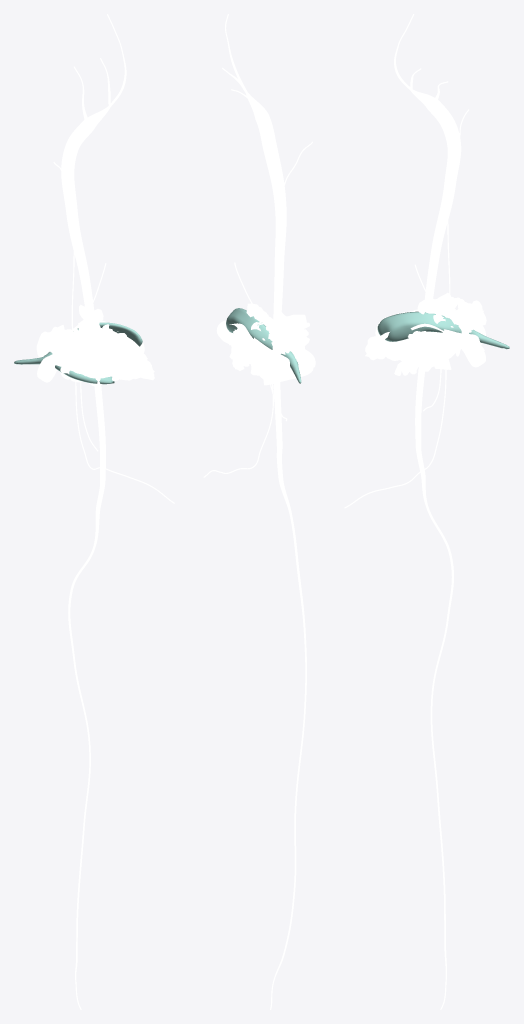
The model's file is ieobom-female-nervous-v4-central-major.glb.
3 renders of one model, left to right at view 1: azimuth 90°, elevation 25°; view 2: azimuth 210°, elevation 25°; view 3: azimuth 270°, elevation 25°, orthographic. The views are drawn at different scales.
Parts seen in each view (by area): view 1: FEMALE_SOURCE__Sciatic nerve.l.001, FEMALE_SOURCE__Tibial nerve.l.001, FEMALE_SOURCE__Corpus callosum.001, FEMALE_SOURCE__Lateral ventricle.l.001, FEMALE_SOURCE__Tentorium cerebelli.l.001, FEMALE_SOURCE__Deep fibular nerve.l.001, FEMALE_SOURCE__Superior temporal sulcus.l.001, FEMALE_SOURCE__Middle temporal gyrus.l.001, FEMALE_SOURCE__Orbital gyri.l.001; view 2: FEMALE_SOURCE__Sciatic nerve.l.001, FEMALE_SOURCE__Corpus callosum.001, FEMALE_SOURCE__Tibial nerve.l.001, FEMALE_SOURCE__Lateral ventricle.l.001, FEMALE_SOURCE__Deep fibular nerve.l.001, FEMALE_SOURCE__Tentorium cerebelli.l.001, FEMALE_SOURCE__Middle temporal gyrus.l.001; view 3: FEMALE_SOURCE__Sciatic nerve.l.001, FEMALE_SOURCE__Lateral ventricle.l.001, FEMALE_SOURCE__Tibial nerve.l.001, FEMALE_SOURCE__Corpus callosum.001, FEMALE_SOURCE__Deep fibular nerve.l.001, FEMALE_SOURCE__Orbital gyri.l.001.
Boxes of the visible parts, left/top/right/bottom form: FEMALE_SOURCE__Sciatic nerve.l.001: left=61, top=14, right=126, bottom=505; FEMALE_SOURCE__Tibial nerve.l.001: left=68, top=504, right=100, bottom=1009; FEMALE_SOURCE__Corpus callosum.001: left=37, top=337, right=144, bottom=382; FEMALE_SOURCE__Lateral ventricle.l.001: left=14, top=322, right=142, bottom=384; FEMALE_SOURCE__Tentorium cerebelli.l.001: left=40, top=320, right=147, bottom=374; FEMALE_SOURCE__Deep fibular nerve.l.001: left=53, top=162, right=174, bottom=503; FEMALE_SOURCE__Superior temporal sulcus.l.001: left=39, top=325, right=154, bottom=372; FEMALE_SOURCE__Middle temporal gyrus.l.001: left=36, top=331, right=154, bottom=380; FEMALE_SOURCE__Orbital gyri.l.001: left=105, top=337, right=130, bottom=368; FEMALE_SOURCE__Sciatic nerve.l.001: left=222, top=14, right=286, bottom=478; FEMALE_SOURCE__Corpus callosum.001: left=216, top=316, right=315, bottom=385; FEMALE_SOURCE__Tibial nerve.l.001: left=270, top=478, right=306, bottom=1009; FEMALE_SOURCE__Lateral ventricle.l.001: left=226, top=308, right=301, bottom=383; FEMALE_SOURCE__Deep fibular nerve.l.001: left=203, top=141, right=312, bottom=477; FEMALE_SOURCE__Tentorium cerebelli.l.001: left=229, top=323, right=285, bottom=372; FEMALE_SOURCE__Middle temporal gyrus.l.001: left=269, top=328, right=308, bottom=354; FEMALE_SOURCE__Sciatic nerve.l.001: left=394, top=14, right=461, bottom=471; FEMALE_SOURCE__Lateral ventricle.l.001: left=377, top=311, right=509, bottom=349; FEMALE_SOURCE__Tibial nerve.l.001: left=420, top=470, right=453, bottom=1009; FEMALE_SOURCE__Corpus callosum.001: left=375, top=311, right=485, bottom=367; FEMALE_SOURCE__Deep fibular nerve.l.001: left=344, top=109, right=468, bottom=508; FEMALE_SOURCE__Orbital gyri.l.001: left=408, top=331, right=455, bottom=349.
Size of the model in its own units: 0.0799 by 0.9206 by 0.1365.
